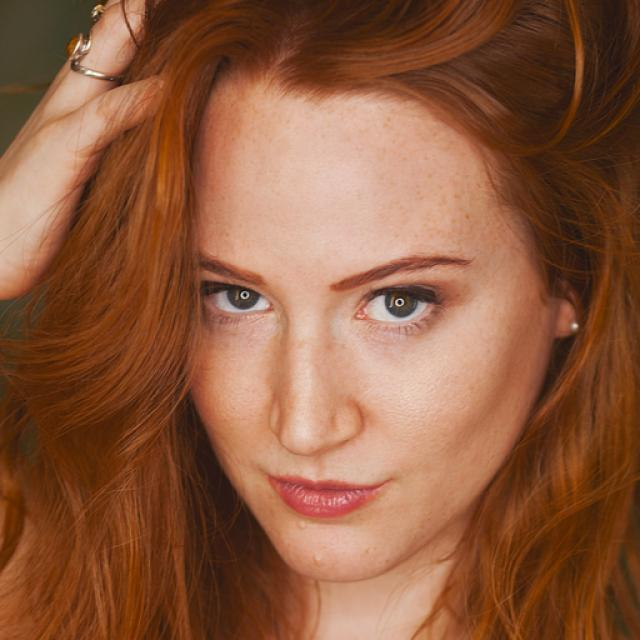0_rostro_limpio: (168, 0, 588, 585)
